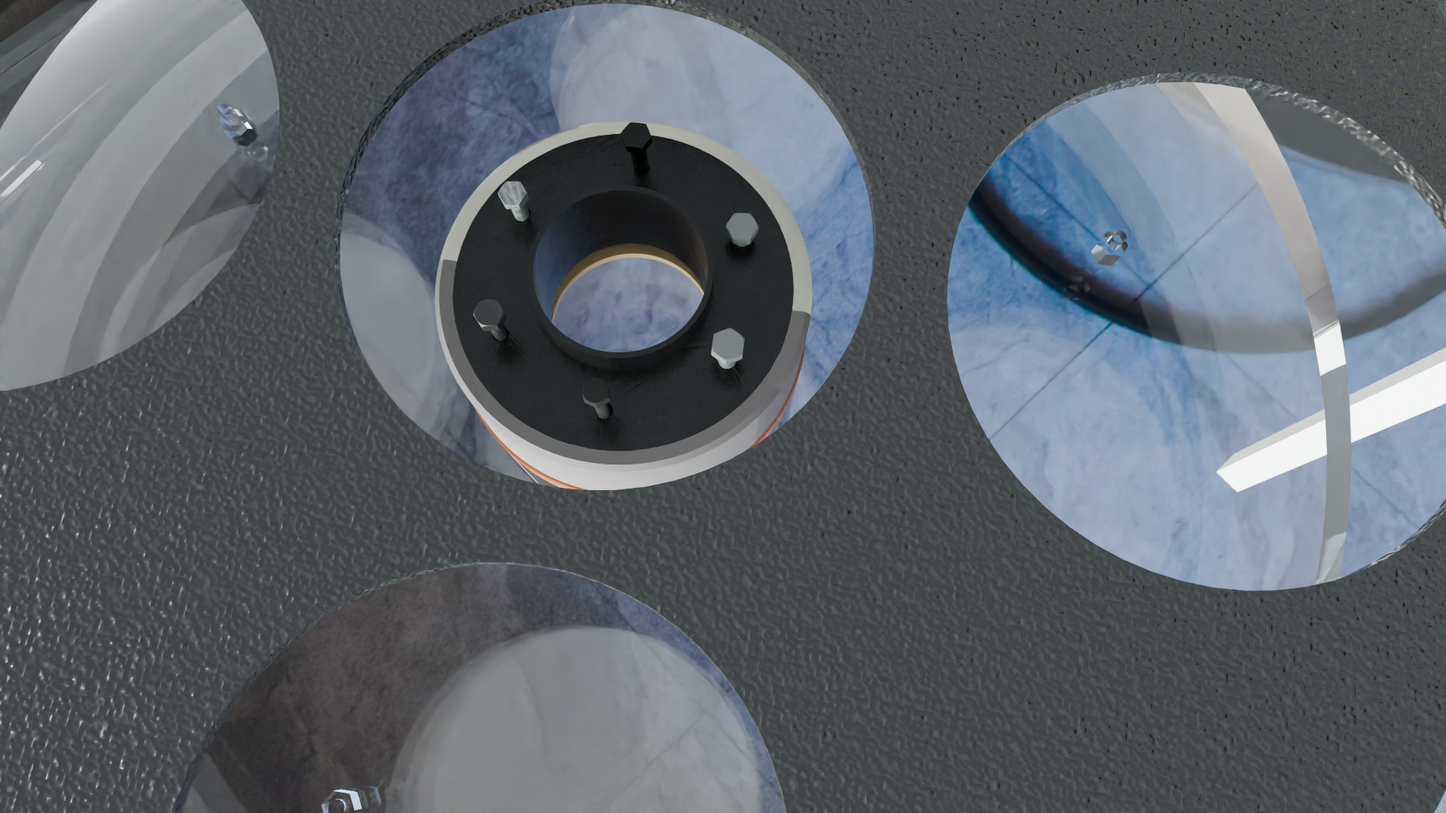bolt: (712, 327, 745, 361), (473, 300, 505, 327), (726, 213, 758, 239), (621, 122, 651, 148), (583, 377, 609, 406), (498, 181, 527, 205)
